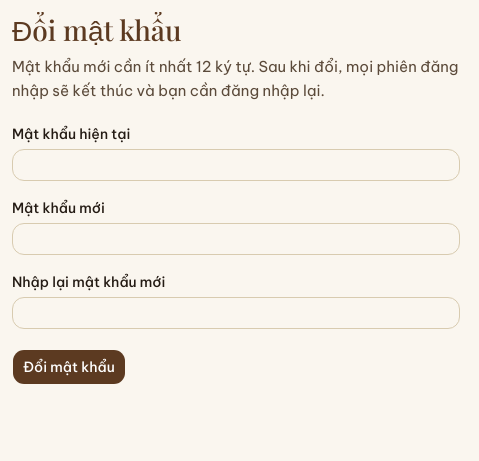
Test: Trang đổi mật khẩu › sai mật khẩu hiện tại (400 INVALID_CREDENTIALS) -> FormError, vẫn giữ phiên
The width and height of the screenshot is (479, 461).
Type "sai" into the password field labelled "Mật khẩu hiện tại".
click(236, 165); type("sai")  # box x1=12 y1=149 x2=460 y2=181
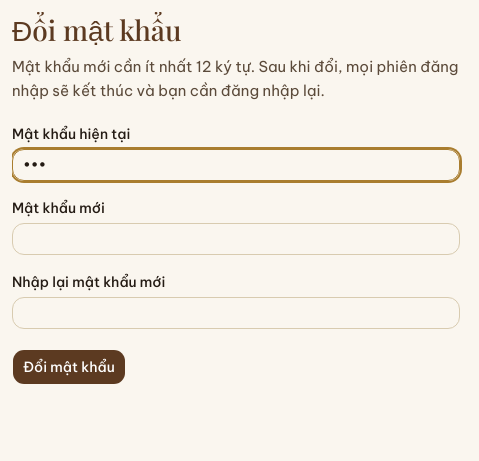
Type "mat-khau-moi-du-dai" into the password field labelled "Mật khẩu mới".
click(236, 239); type("mat-khau-moi-du-dai")  # box x1=12 y1=223 x2=460 y2=255
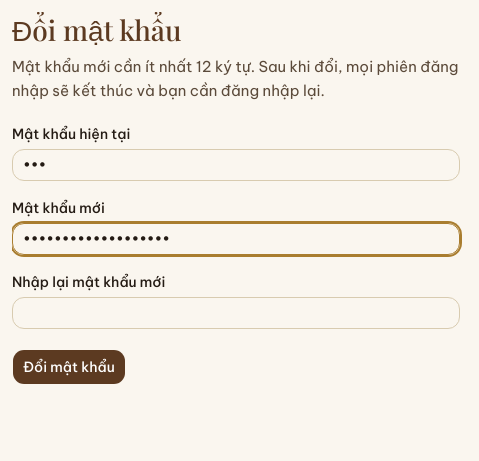
Type "mat-khau-moi-du-dai" into the password field labelled "Nhập lại mật khẩu mới".
click(236, 313); type("mat-khau-moi-du-dai")  # box x1=12 y1=297 x2=460 y2=329
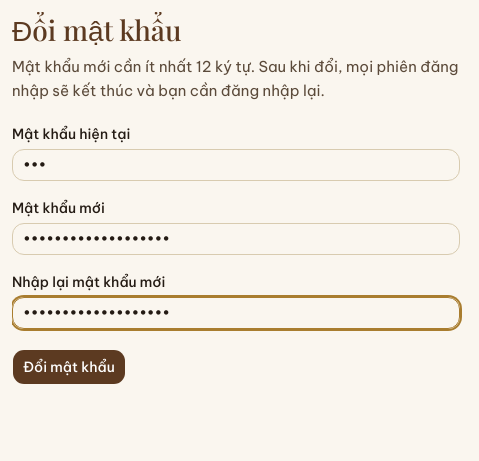
Click the button "Đổi mật khẩu".
click(69, 367)  # box x1=12 y1=349 x2=126 y2=385
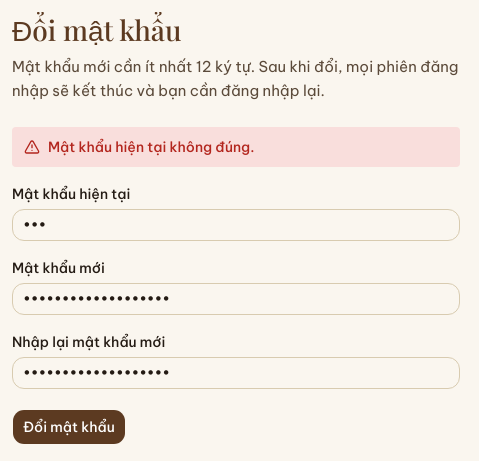
Now the message reads "Mật khẩu hiện tại không đúng.", box x1=48 y1=138 x2=254 y2=156
